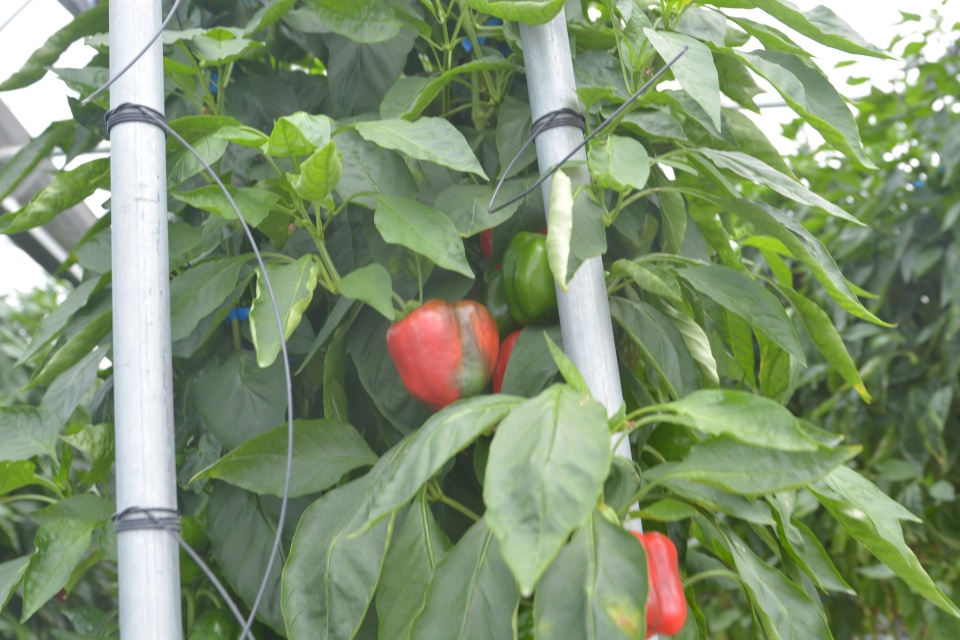fruit: (383, 295, 500, 409), (631, 528, 688, 640), (500, 228, 560, 328), (481, 269, 520, 340)
